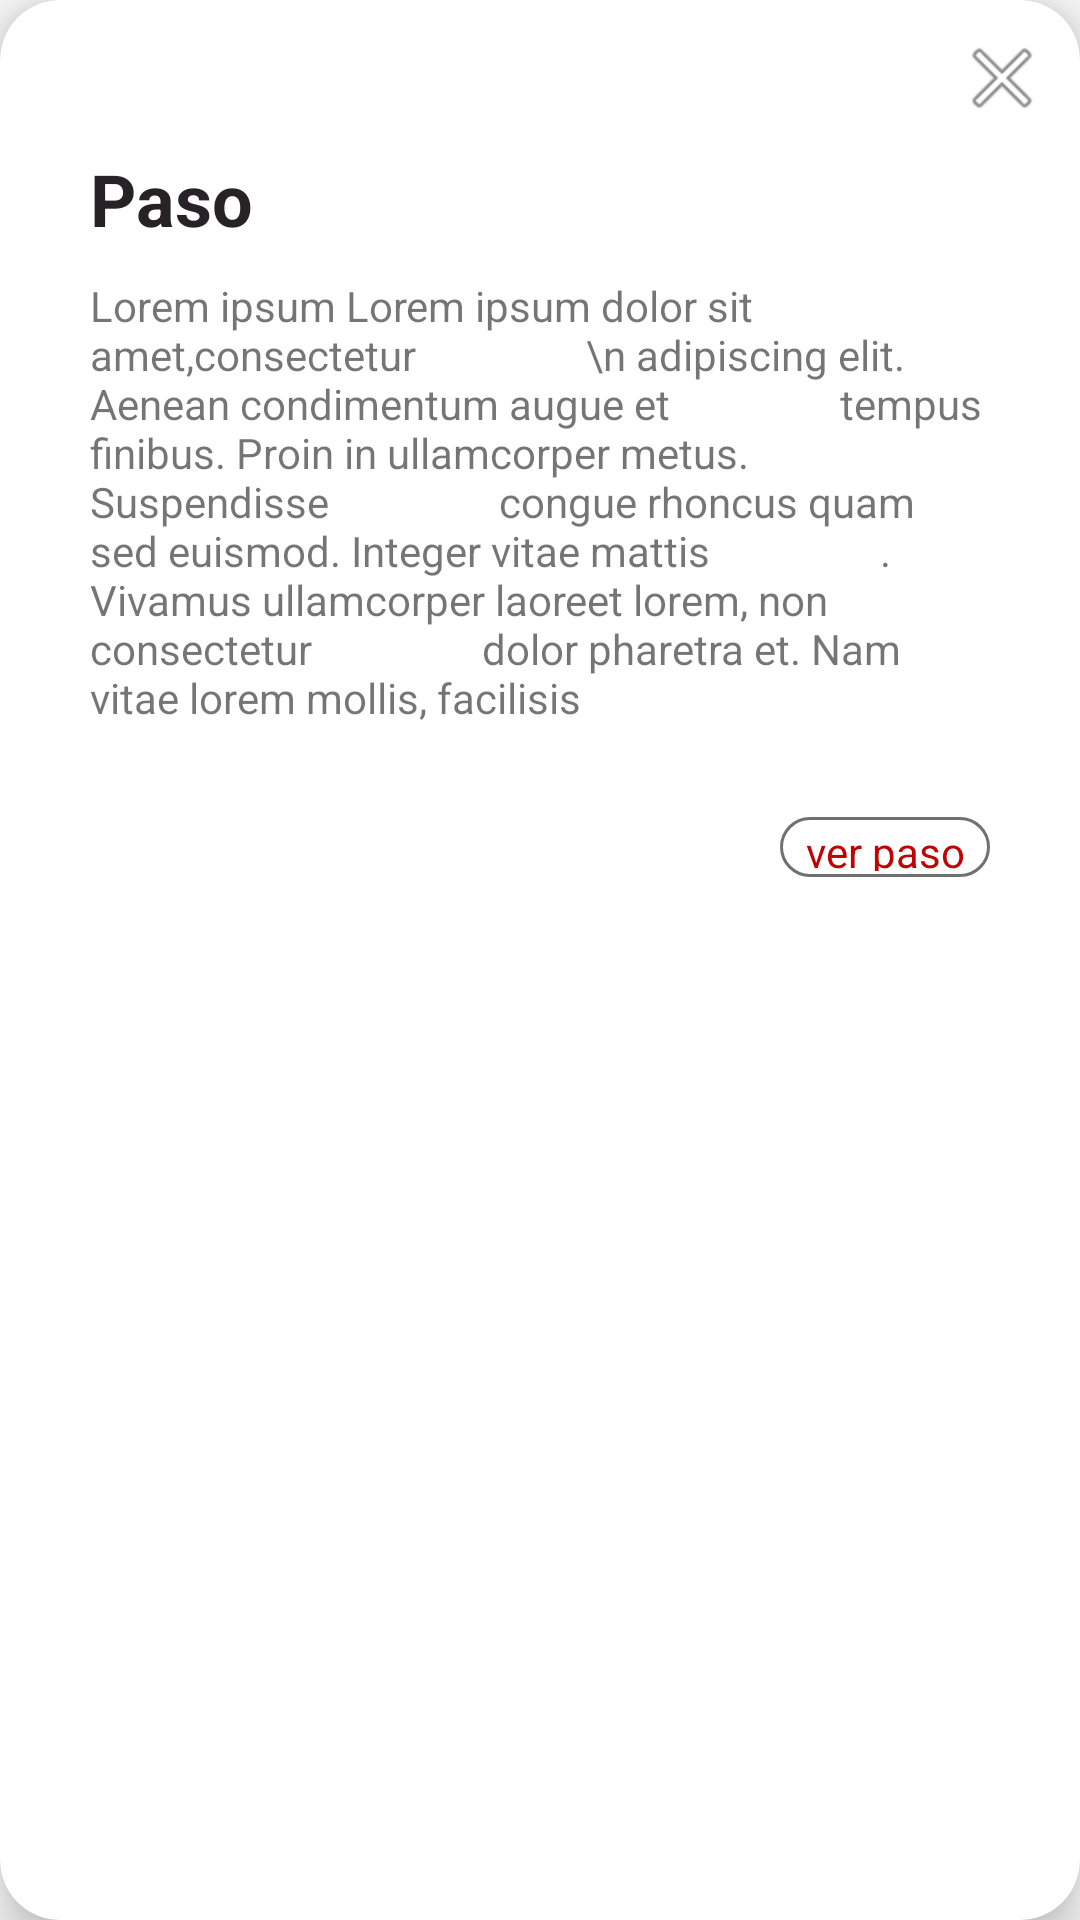

Icon click points for this 1080w x 1920h phone screenshot, format (x,y):
close clear cancel: (1002,78)
